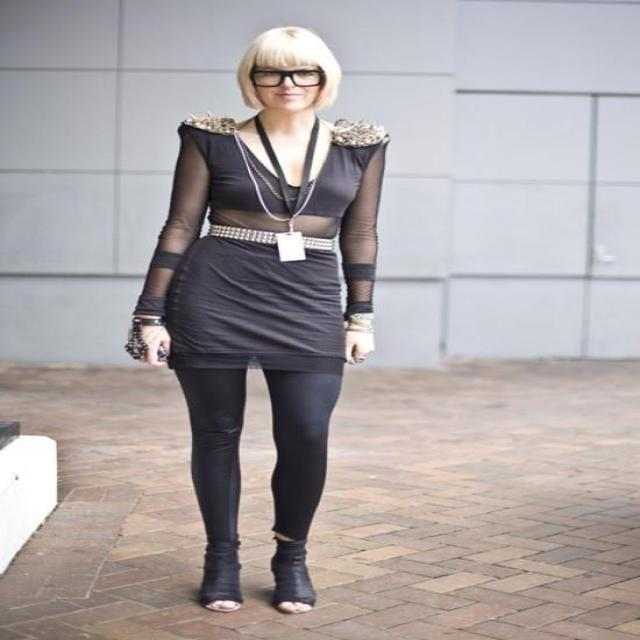dress: (133, 117, 391, 375)
